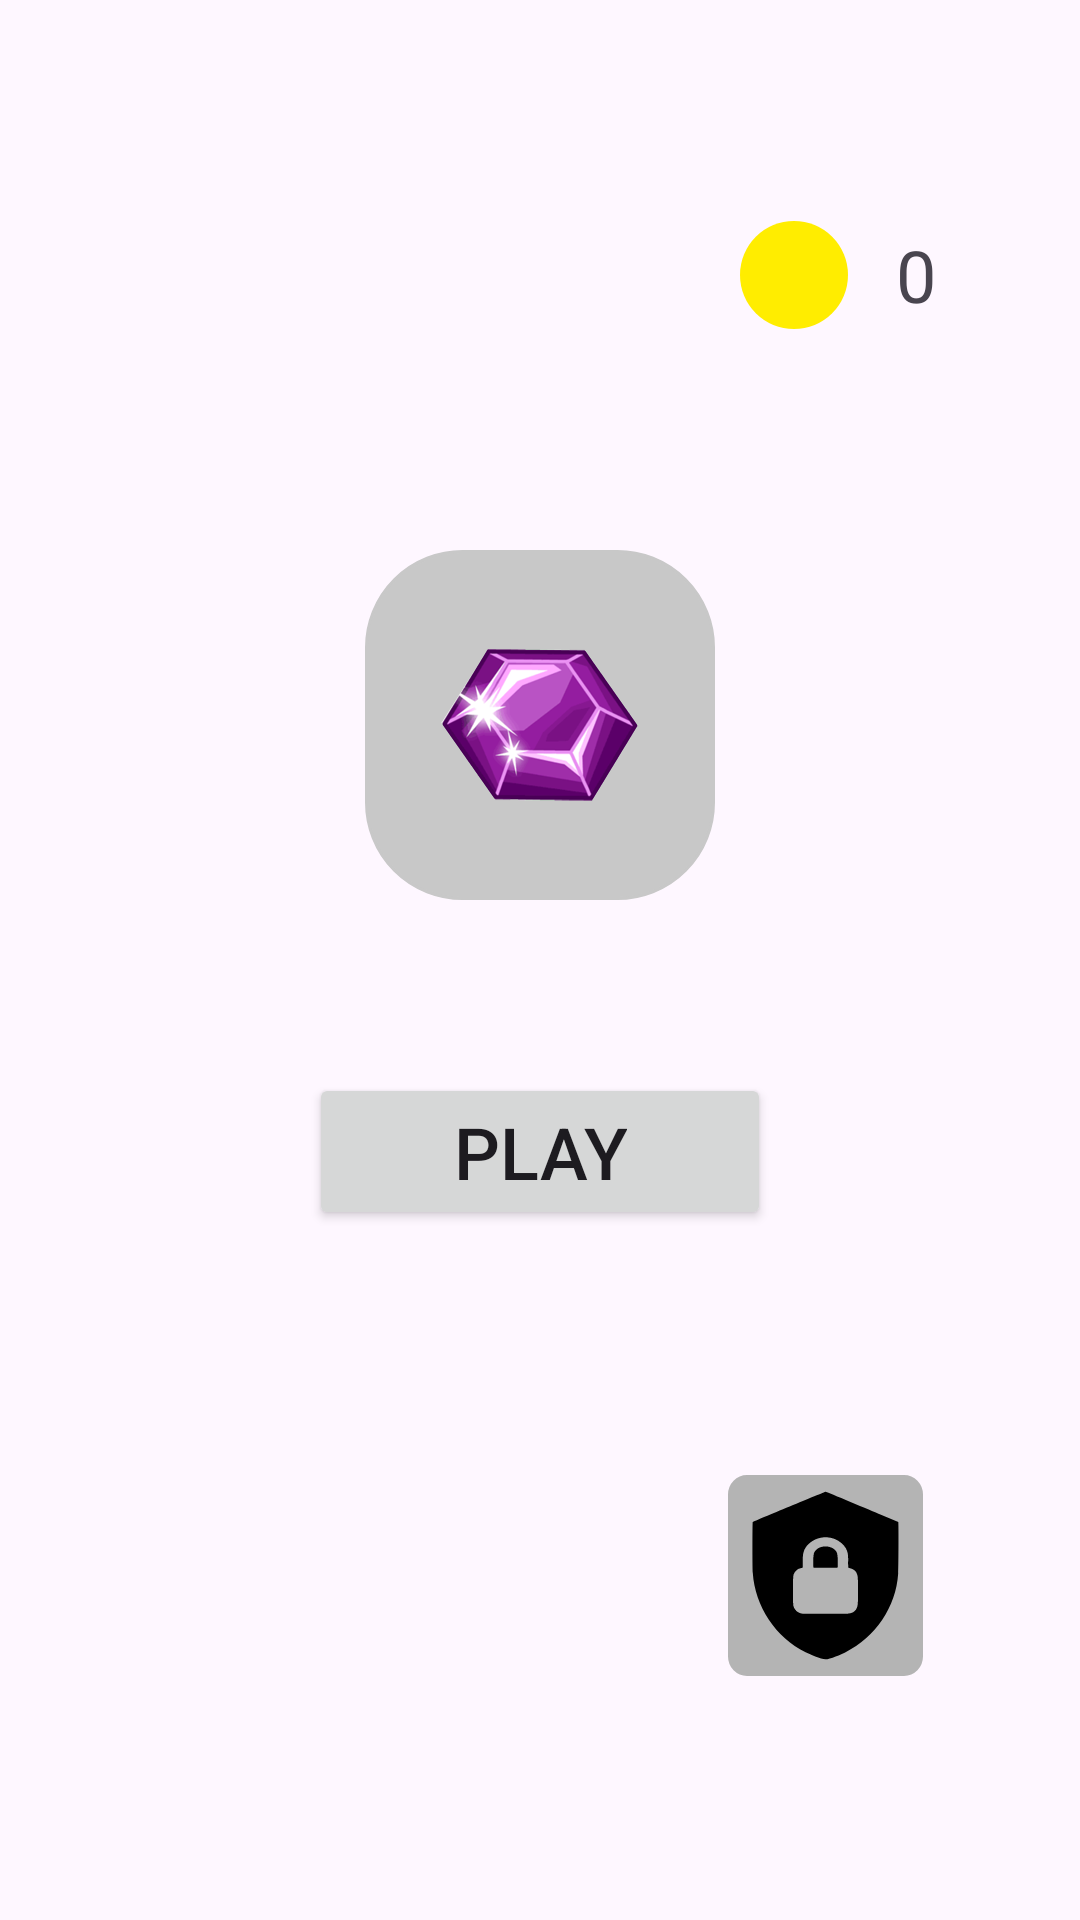

Where to tap for icons on this 1080w x 1920h app screen, as (x=x, y=y):
shield: (x=825, y=1575)
